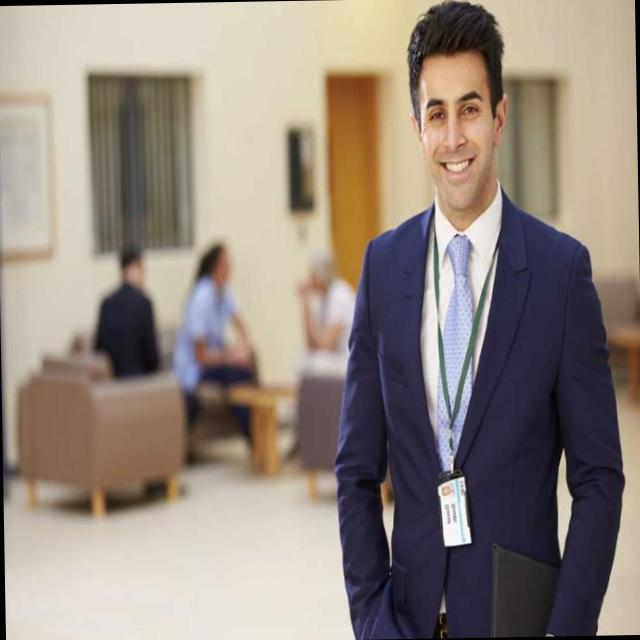id_card: (418, 212, 508, 548)
